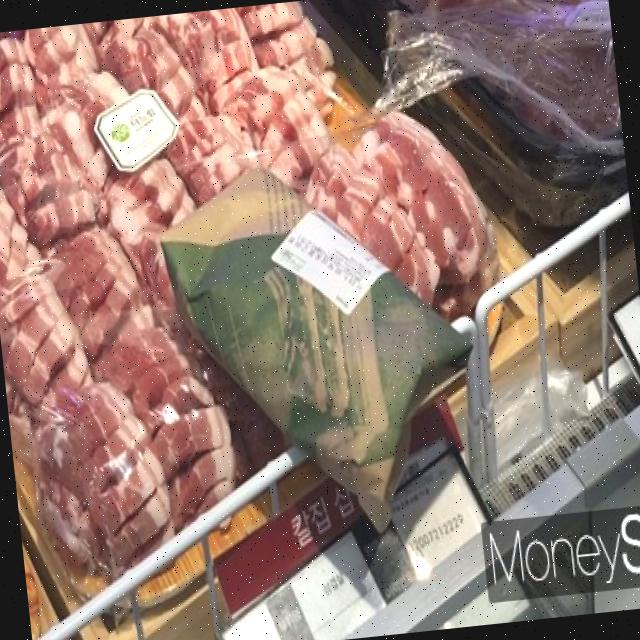meat: (0, 0, 338, 242), (0, 239, 255, 549), (314, 80, 454, 318)
